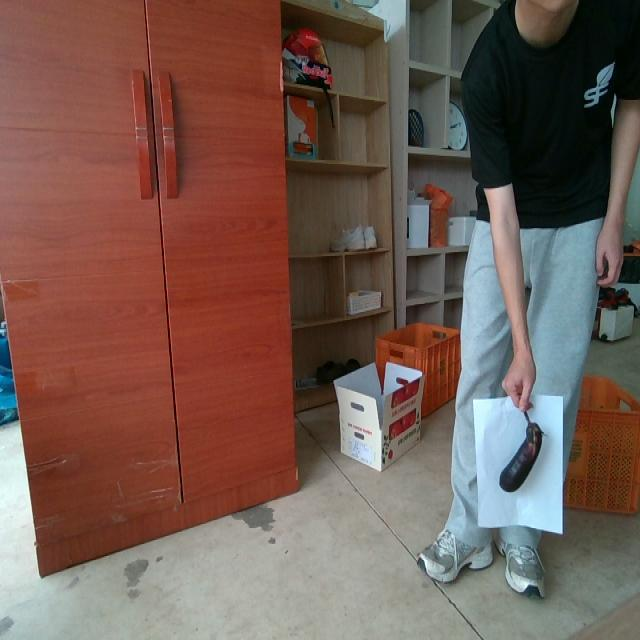Egg plant: (499, 412, 542, 491)
